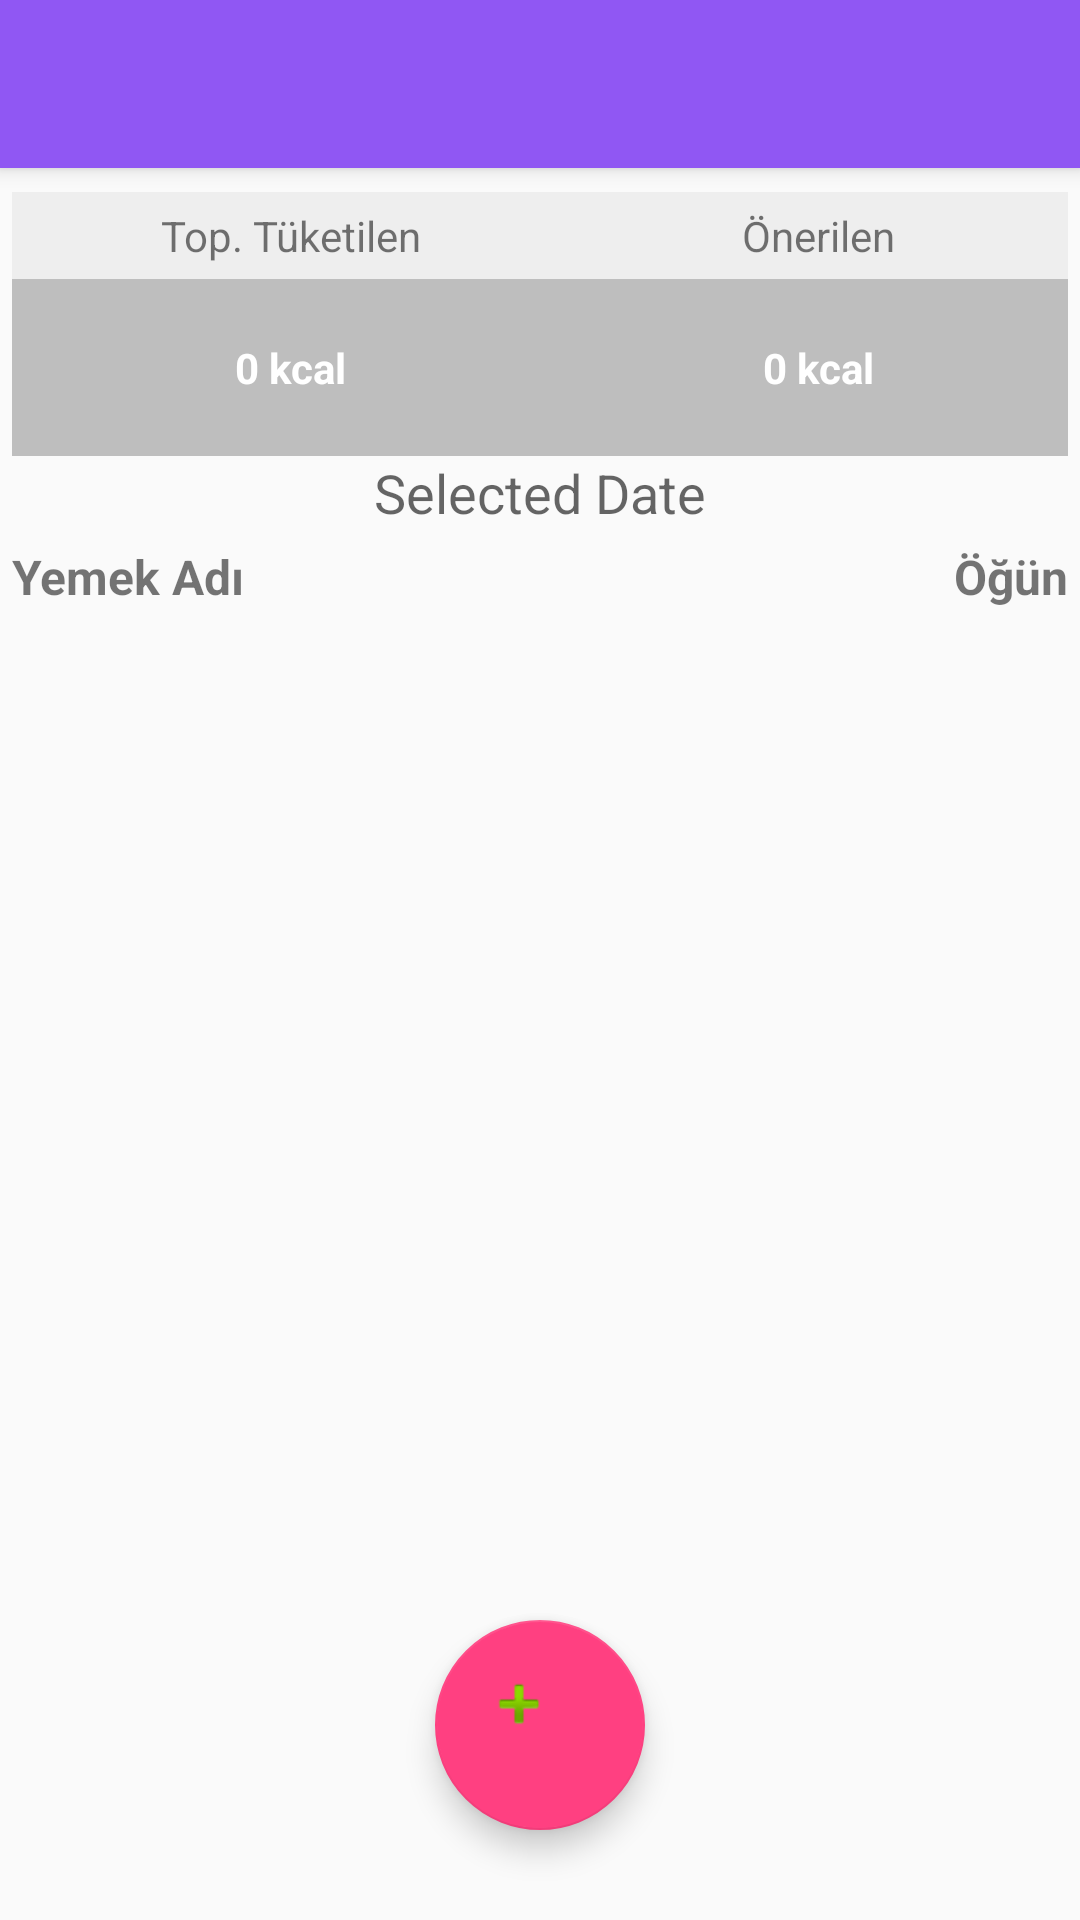

Where icons sit on this 1080 x 1920 app screen, as (x1, y1, x2, y2):
add: (435, 1620, 645, 1830)
